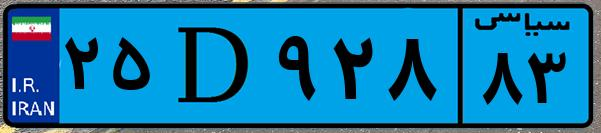2: (330, 28, 385, 110), (57, 26, 110, 100)
3: (525, 38, 570, 115)
5: (110, 28, 158, 98)
8: (385, 28, 445, 110), (475, 38, 525, 113)
9: (270, 28, 330, 110)
D: (158, 12, 270, 120)
